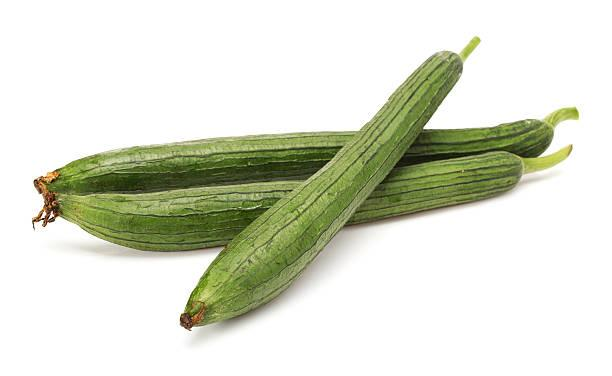ridge gourd: (177, 35, 481, 330), (34, 123, 570, 252)
